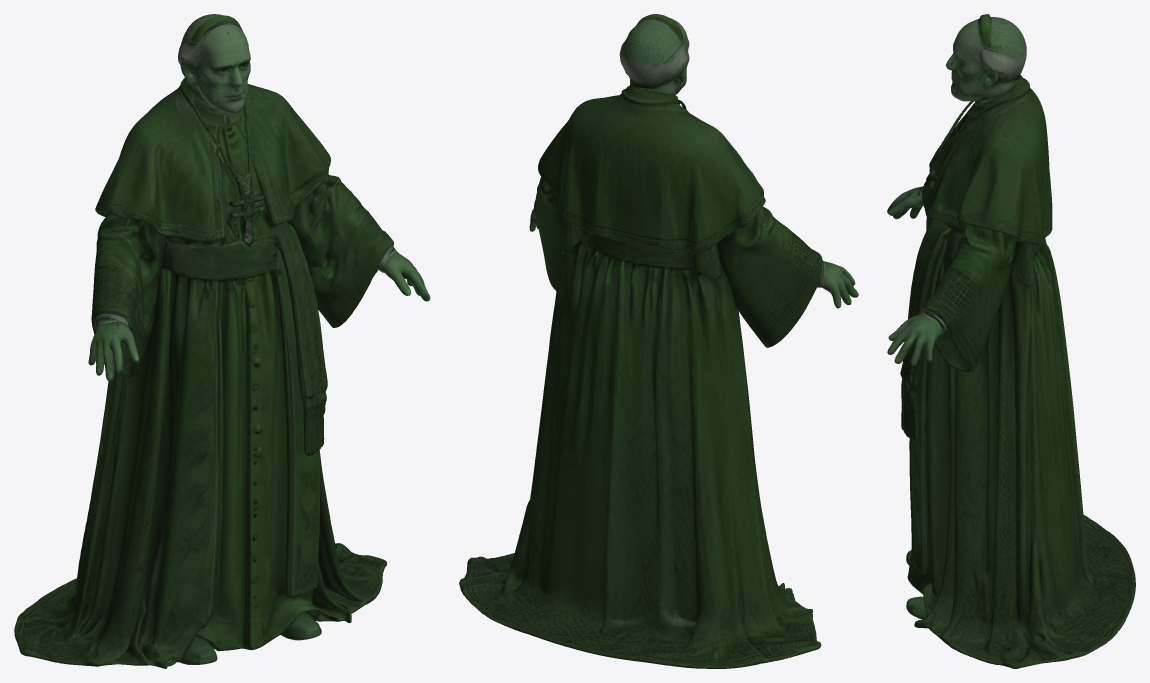
File: woman_gulbahor.obj
3 views of the same model, side by side, from view 1: azimuth 30°, elevation 25°; view 2: azimuth 150°, elevation 25°; view 3: azimuth 270°, elevation 25° (orthographic). The views are drawn at different scales.
Visible parts, largest first — view 1: tripo_node_76f78103-529f-48fd-bb50-4249daa7dc1e; view 2: tripo_node_76f78103-529f-48fd-bb50-4249daa7dc1e; view 3: tripo_node_76f78103-529f-48fd-bb50-4249daa7dc1e.
Boxes of the visible parts, <box> form: tripo_node_76f78103-529f-48fd-bb50-4249daa7dc1e: <box>14,14,430,668</box>; tripo_node_76f78103-529f-48fd-bb50-4249daa7dc1e: <box>459,14,858,668</box>; tripo_node_76f78103-529f-48fd-bb50-4249daa7dc1e: <box>887,14,1135,668</box>.
Size of the model in its own units: 0.6267 by 1 by 0.392.
Materials: 1 (1 with a texture image).
